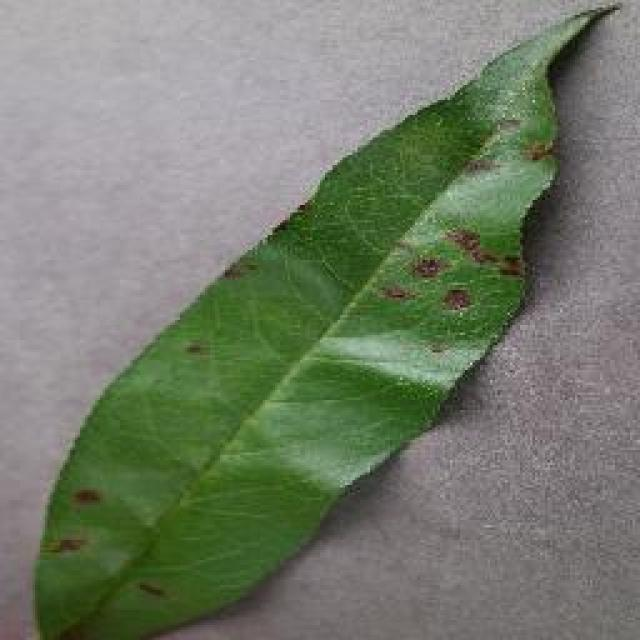Peach_Bacterial_Spot: (312, 176, 530, 346)
